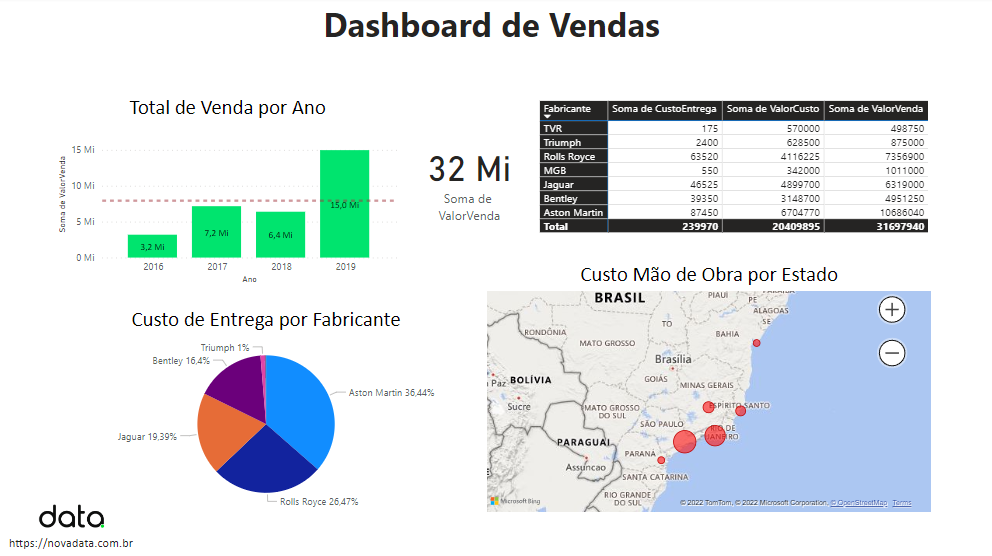

The dashboard page shown, as its layout file describes it:
{"tool":"powerbi","page":{"name":"Página 1","canvas":[1280,720],"ordinal":0},"visuals":[{"type":"clusteredColumnChart","title":"Total de Venda por Ano","fields":{"Category":["VendaCarros.Ano"],"Y":["Sum(VendaCarros.ValorVenda)"]},"box":[72,126,446.1,248.1],"z":0},{"type":"pieChart","title":"Custo de Entrega por Fabricante","fields":{"Category":["VendaCarros.Fabricante"],"Y":["Sum(VendaCarros.CustoEntrega)"]},"box":[77.1,398.6,534.9,268.7],"z":1000},{"type":"map","title":"Custo Mão de Obra por Estado","fields":{"Category":["VendaCarros.Estado"],"Size":["Sum(VendaCarros.CustoMaoDeObra)"]},"box":[623.6,340.7,581.1,326.6],"z":2000},{"type":"card","fields":{"Values":["Sum(VendaCarros.ValorVenda)"]},"box":[533.6,126,145.3,199.3],"z":3000},{"type":"pivotTable","fields":{"Rows":["VendaCarros.Fabricante"],"Values":["Sum(VendaCarros.CustoEntrega)","Sum(VendaCarros.ValorCusto)","Sum(VendaCarros.ValorVenda)"]},"box":[691.7,128.6,513,212.1],"z":4000},{"type":"textbox","box":[70.7,0,1127.6,68.1],"z":5000},{"type":"image","box":[43.7,630,83.6,86.1],"z":6000},{"type":"textbox","box":[0,686.6,181.3,29.6],"z":7000}]}

Visuals, with their boxes in screenshot pixels (x1, y1, x2, y2), scaled from the page's 1280x720 canvas onto the 992x556 screenshot:
"Total de Venda por Ano" clusteredColumnChart: <bbox>56, 97, 402, 289</bbox>
"Custo de Entrega por Fabricante" pieChart: <bbox>60, 308, 474, 515</bbox>
"Custo Mão de Obra por Estado" map: <bbox>483, 263, 934, 515</bbox>
card - Sum(VendaCarros.ValorVenda): <bbox>414, 97, 526, 251</bbox>
pivotTable - VendaCarros.Fabricante x Sum(VendaCarros.CustoEntrega): <bbox>536, 99, 934, 263</bbox>
textbox: <bbox>55, 0, 929, 53</bbox>
image: <bbox>34, 486, 99, 553</bbox>
textbox: <bbox>0, 530, 141, 553</bbox>
